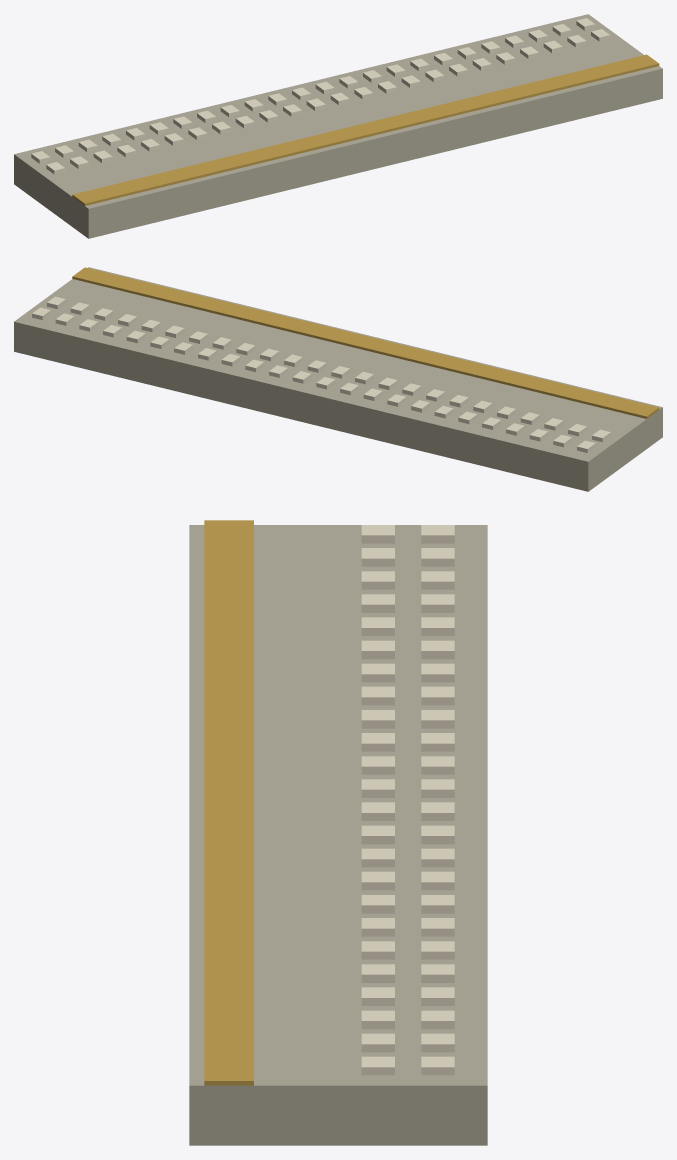
The model's file is platform-edge.glb.
The picture shows the model from 3 angles, top to bottom: view 1: azimuth 30°, elevation 25°; view 2: azimuth 150°, elevation 25°; view 3: azimuth 270°, elevation 25°; orthographic projection. The views are drawn at different scales.
Parts seen in each view (by area): view 1: platform-edge; view 2: platform-edge; view 3: platform-edge.
Boxes of the visible parts, left/top/right/bottom form: platform-edge: left=14, top=14, right=662, bottom=238; platform-edge: left=14, top=267, right=662, bottom=491; platform-edge: left=189, top=520, right=487, bottom=1145.
Size of the model in its own units: 4 by 0.2295 by 0.9.
